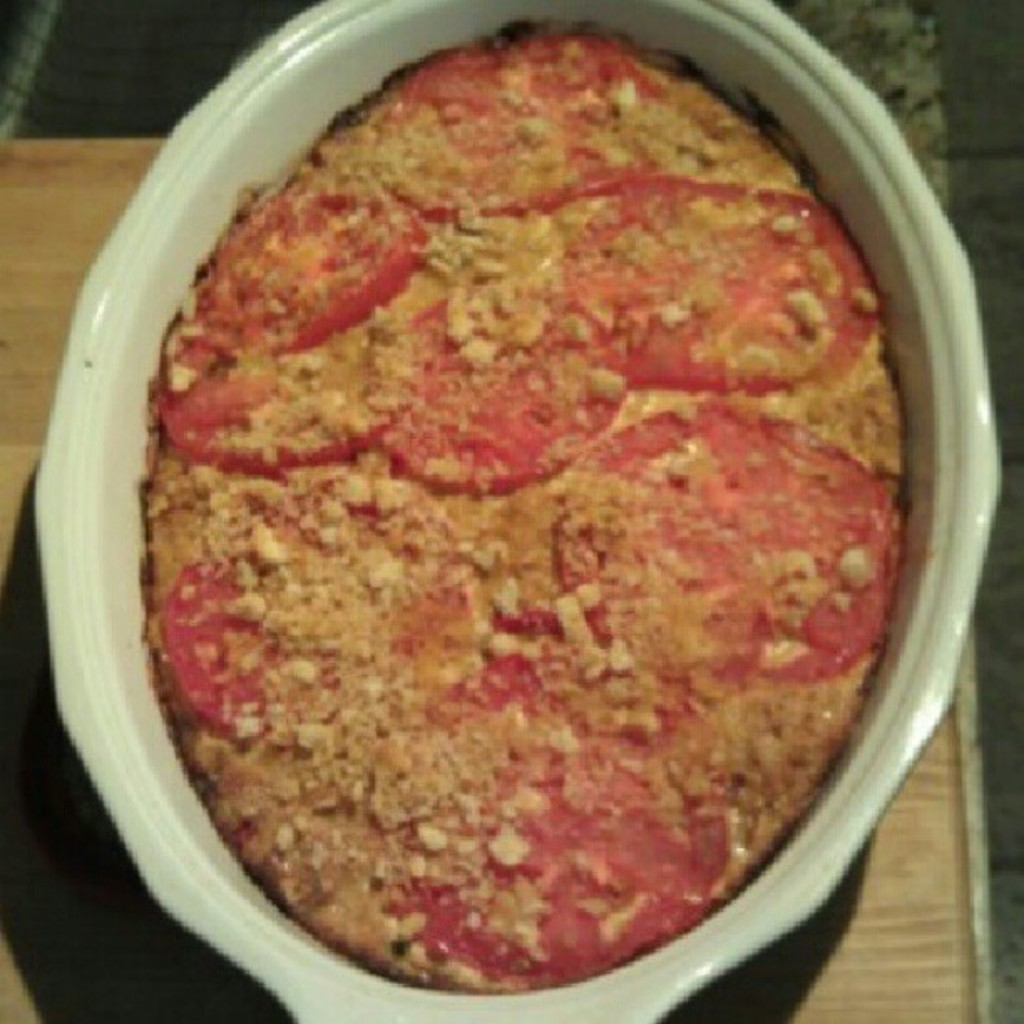Pizza: (153, 45, 888, 1005)
